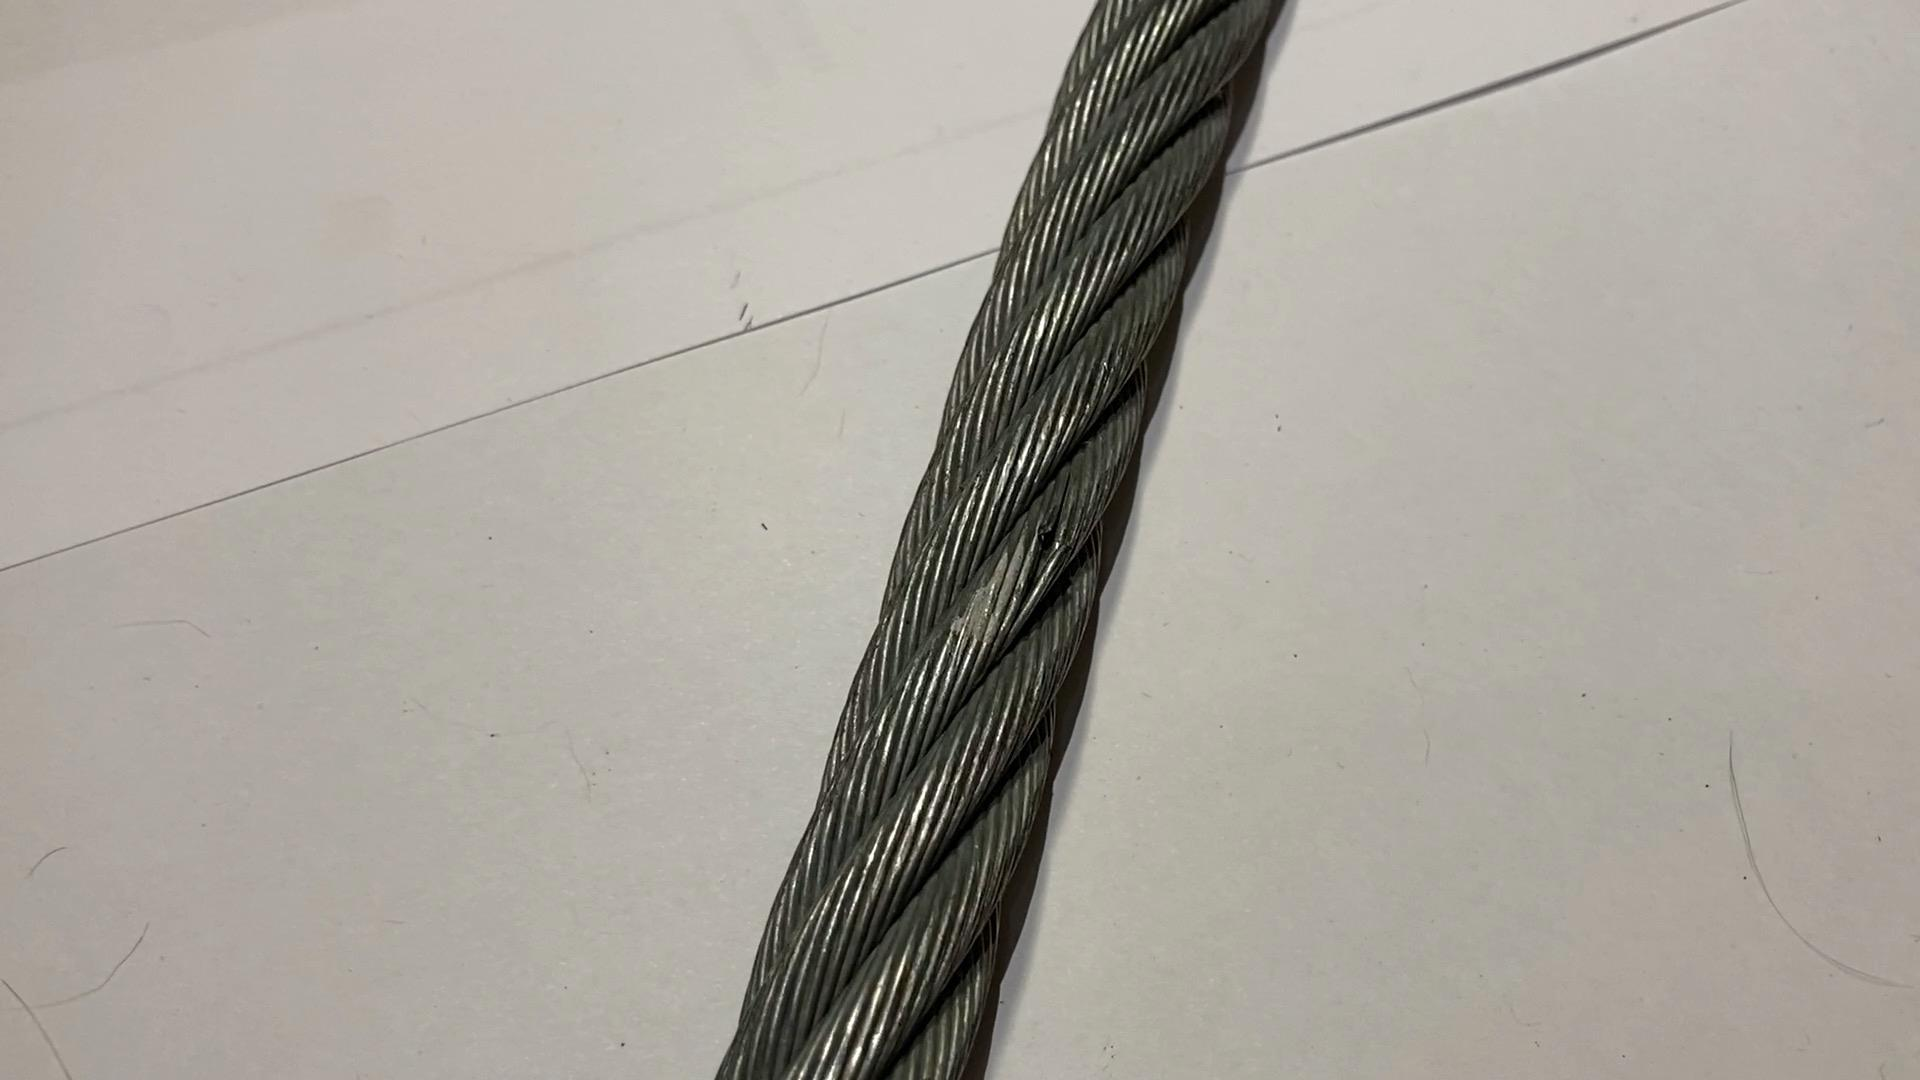break: (1007, 500, 1084, 604)
